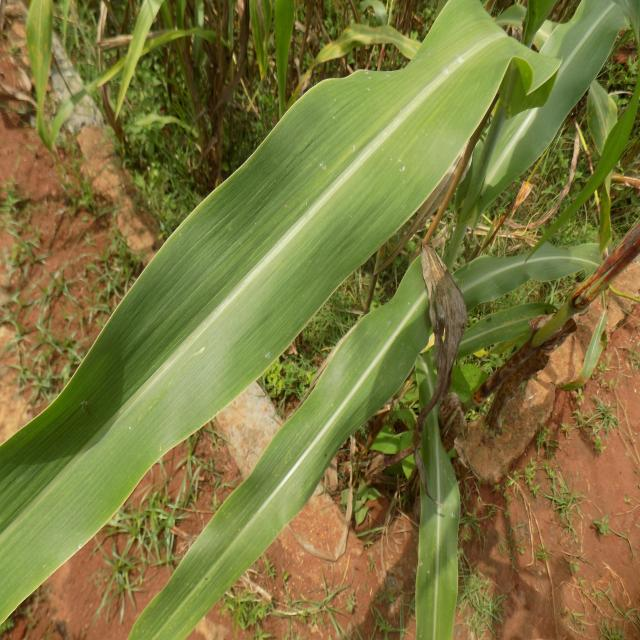millet_healthy: (0, 0, 561, 622), (0, 1, 560, 622), (130, 258, 430, 639), (461, 4, 640, 238), (412, 356, 464, 640), (434, 242, 640, 294), (451, 292, 583, 364)
millet_rust: (408, 238, 466, 474), (583, 70, 626, 284), (22, 0, 59, 164)
